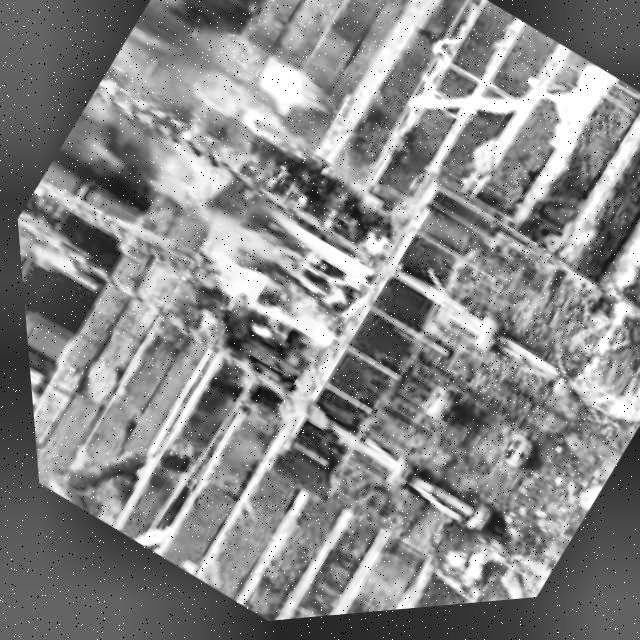Fire: (163, 171, 381, 379)
